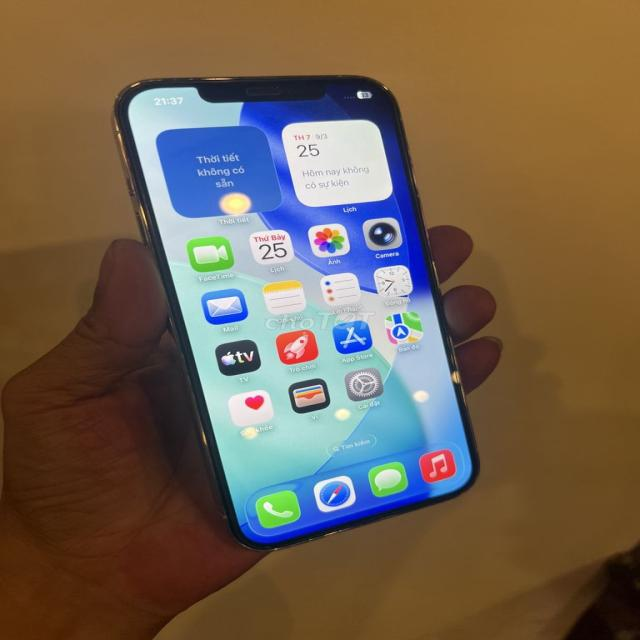gen_12_13: (111, 66, 482, 552)
